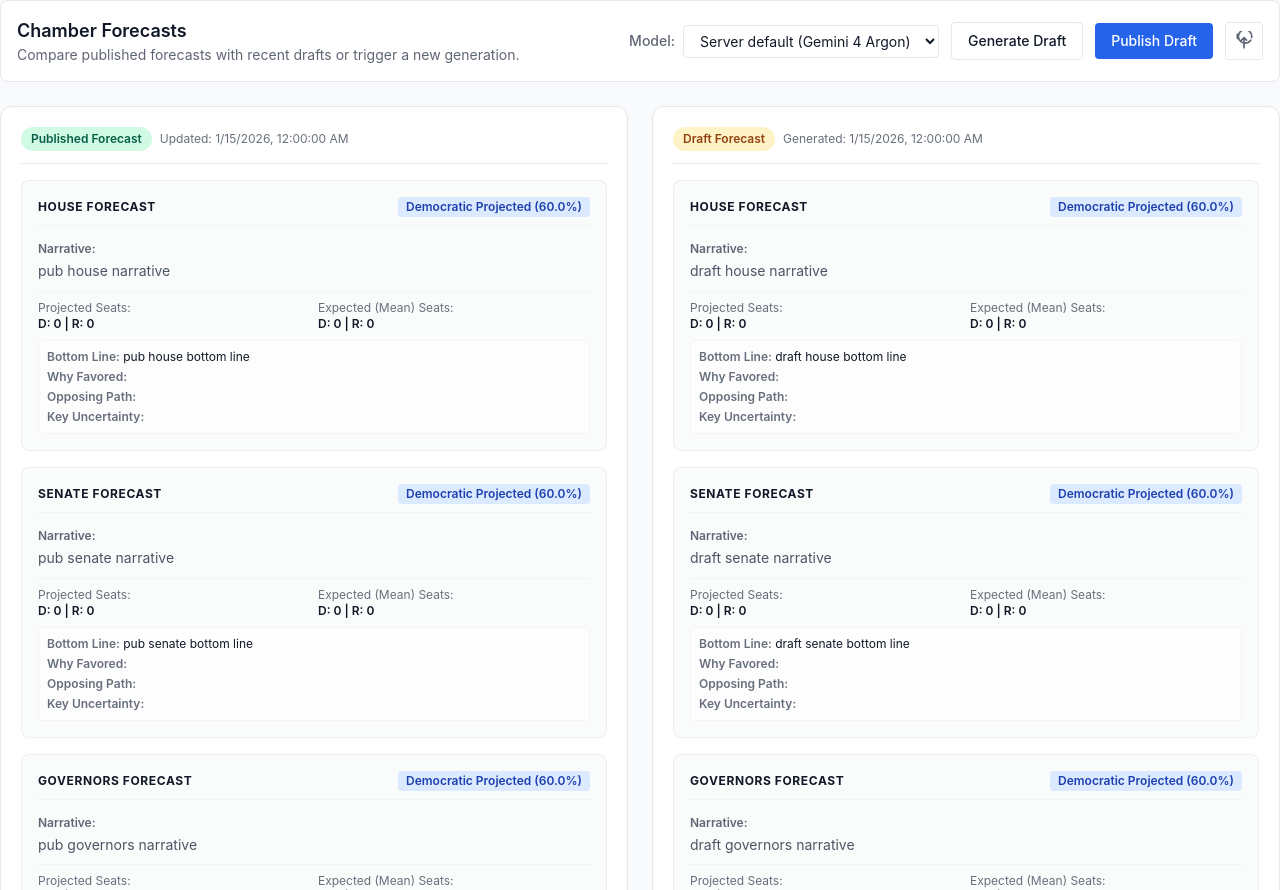
Test: ForecastsTab load and generate safety › disables Publish Draft while a generation is in flight
Check: the button "Publish Draft" is enabled, box [1095,23,1213,59]
Click the button "Generate Draft" at (1017, 41), box [951,22,1083,60]
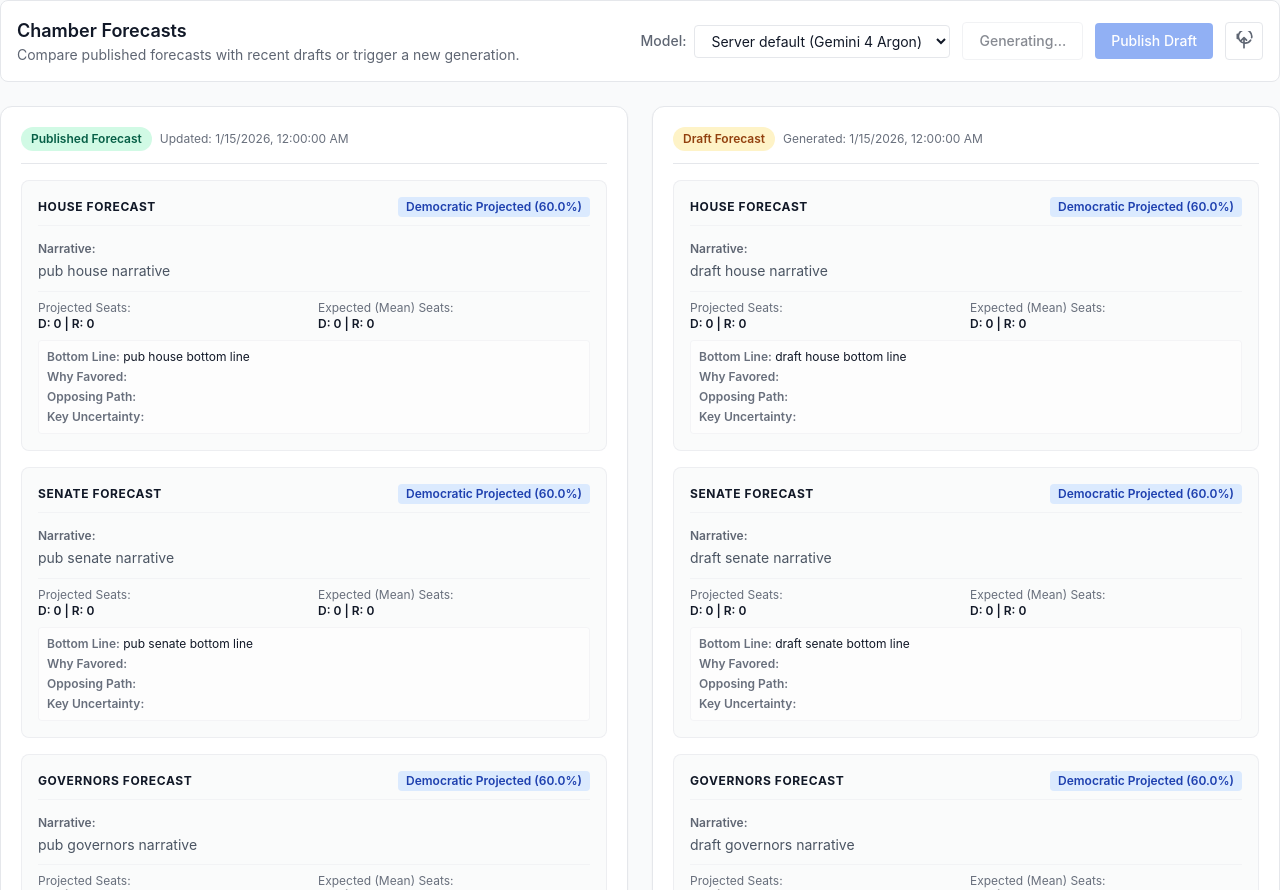
Check: the button "Publish Draft" is disabled, box [1095,23,1213,59]
